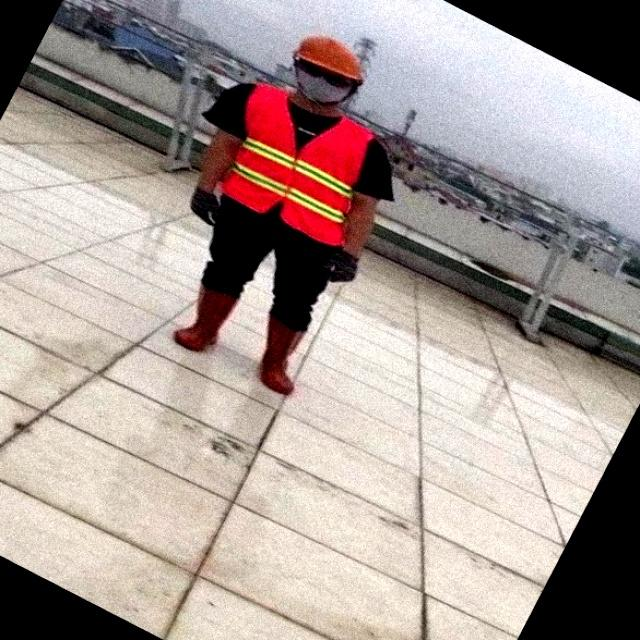helmet: (286, 30, 369, 88)
safety_vest: (235, 74, 352, 253)
